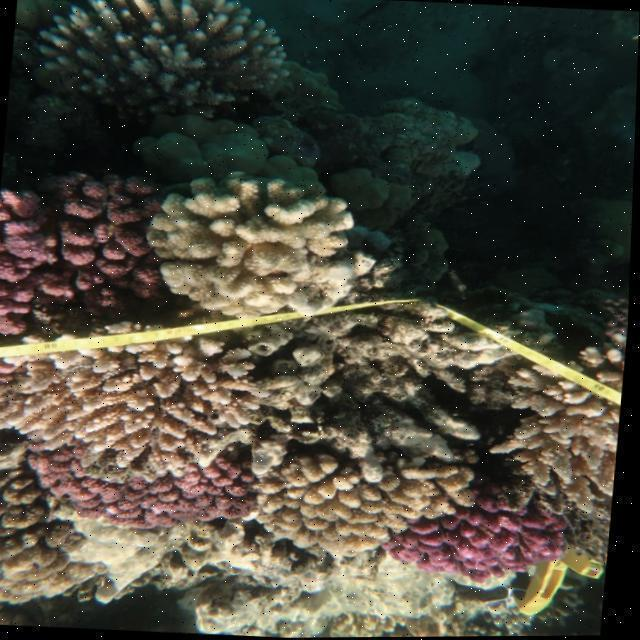Bleached Coral: (169, 137, 416, 326), (13, 0, 330, 114)
Healthy Coral: (0, 173, 168, 340), (32, 450, 264, 535), (400, 494, 573, 587)
